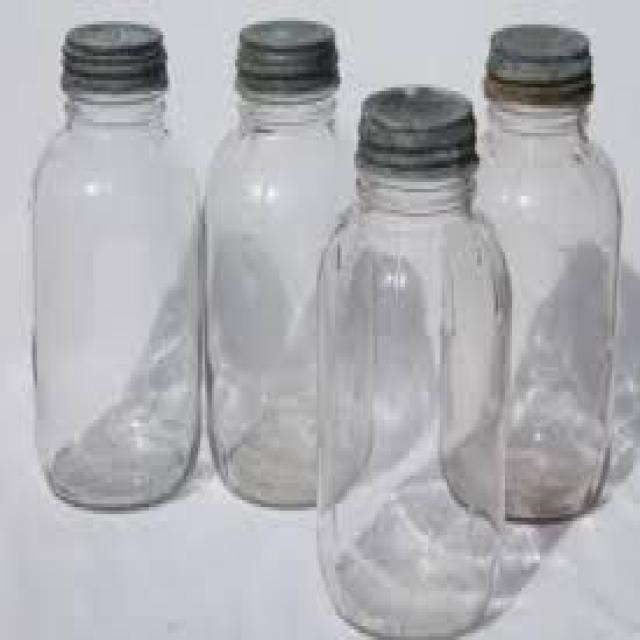glass: (317, 158, 510, 637), (445, 95, 622, 525), (198, 81, 370, 507), (28, 88, 195, 507)
metal: (354, 84, 475, 168), (479, 28, 589, 101), (233, 14, 335, 91), (56, 18, 167, 88)
